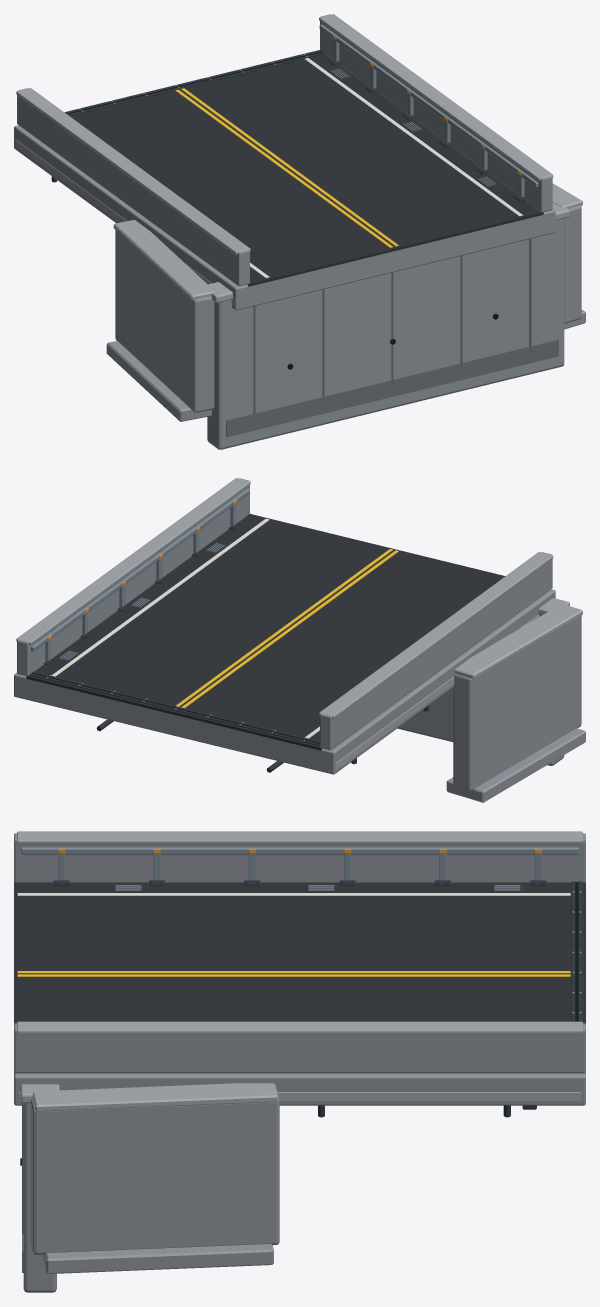
Rendered from rorng_city_bridge_transition_12m.glb.
The picture shows the model from 3 angles, top to bottom: view 1: azimuth 30°, elevation 25°; view 2: azimuth 150°, elevation 25°; view 3: azimuth 270°, elevation 25°; orthographic projection. The views are drawn at different scales.
Parts seen in each view (by area): view 1: rorng_city_bridge_transition_12m_lod0; view 2: rorng_city_bridge_transition_12m_lod0; view 3: rorng_city_bridge_transition_12m_lod0.
Boxes of the visible parts, x1,y1,x2,y2 form: rorng_city_bridge_transition_12m_lod0: [14, 14, 585, 449]; rorng_city_bridge_transition_12m_lod0: [14, 478, 585, 802]; rorng_city_bridge_transition_12m_lod0: [14, 831, 585, 1292].
Size of what is drawn, in the model's own units: 12.68 by 5.89 by 12.
